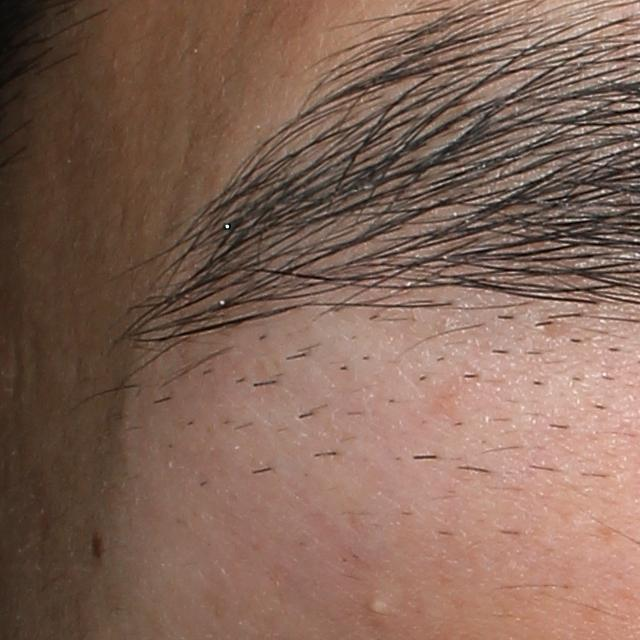comedo: (367, 589, 394, 619)
nevus: (90, 529, 106, 560)
